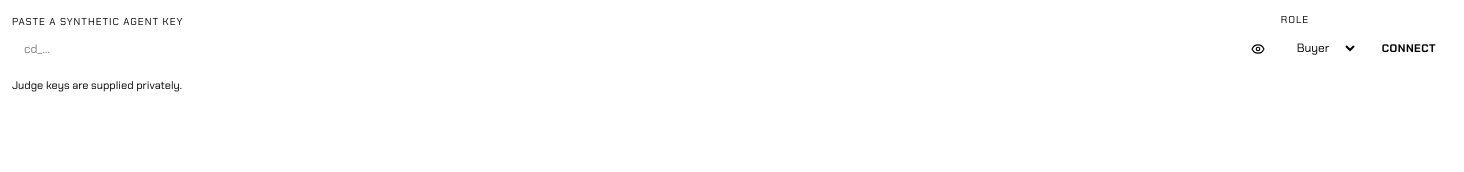
Scenario: AgentKeyConnect › does not store a rejected key
Step 1. Select "Buyer" in the dropdown with test id "agent-key-role" → point(1319, 48), box x1=1281 y1=31 x2=1358 y2=65
Step 2. Type "cd_test_bad_key_000000" into the password field with test id "agent-key-input" → point(627, 49), box x1=12 y1=33 x2=1243 y2=65
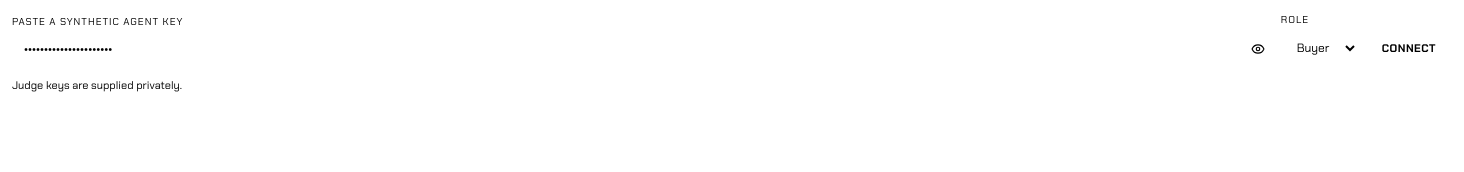
Step 3. Submit the form with test id "agent-key-form", box x1=12 y1=12 x2=1452 y2=65
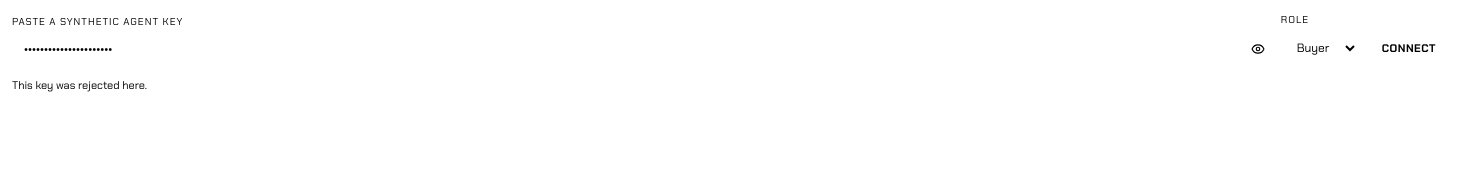
Now the message with test id "agent-key-message" shows "rejected", box x1=12 y1=78 x2=147 y2=92
